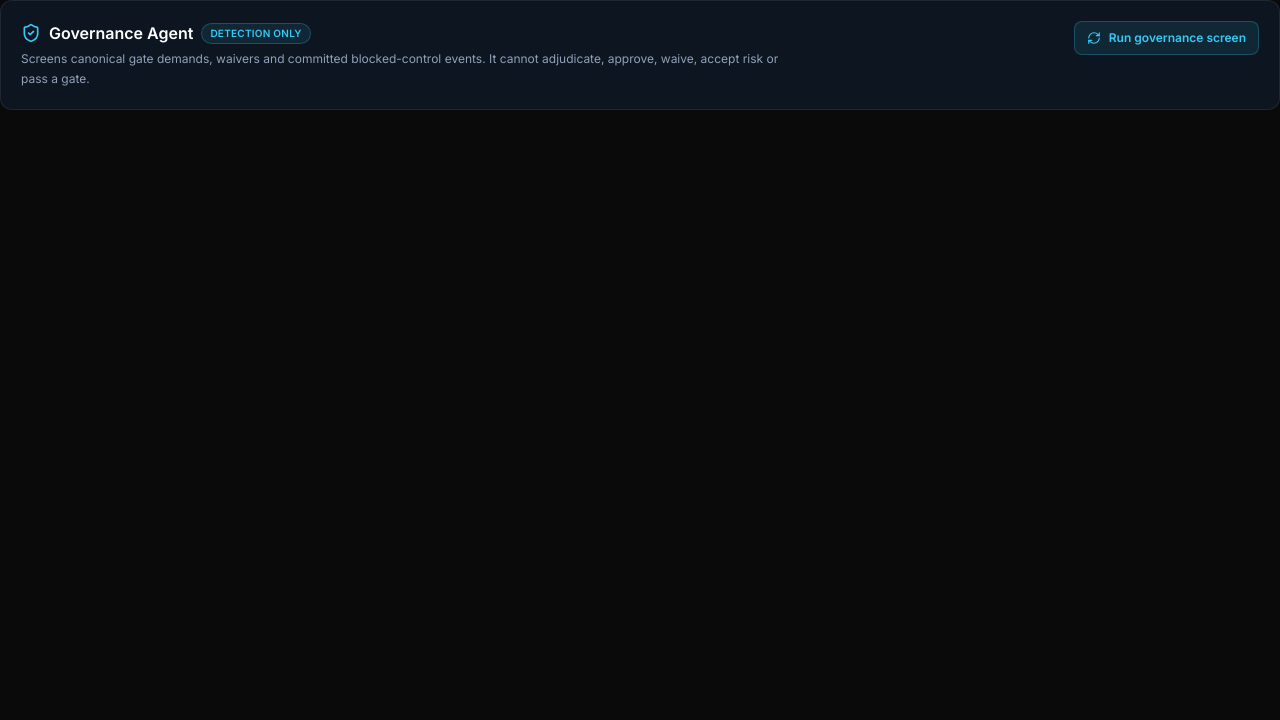
Test: GovernanceAgentPanel › runs the detection-only agent and exposes provenance plus human action
The width and height of the screenshot is (1280, 720).
Expected: the text "Detection only" is shown, top-left (201, 22), bottom-right (311, 44)
Click the button "Run governance screen". click: coordinates (1166, 38)
box: top-left (1074, 21), bottom-right (1259, 55)
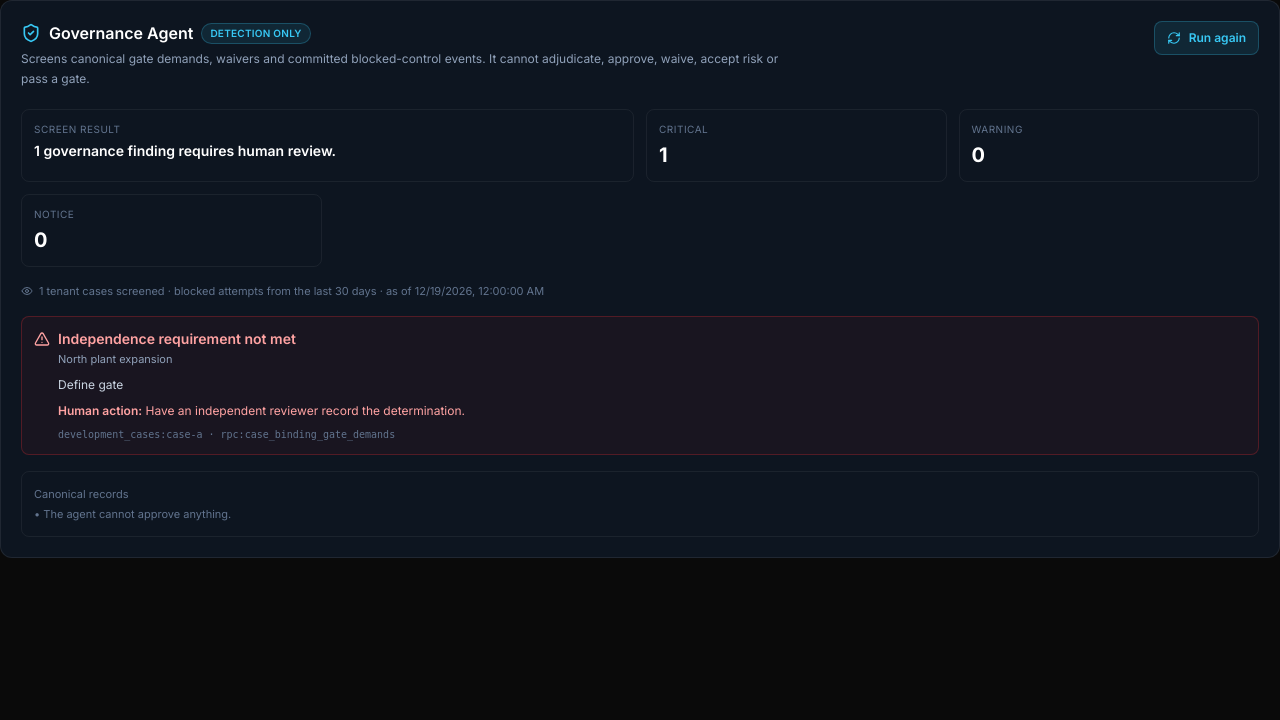
Now the heading "Independence requirement not met" is shown, box top-left (58, 330), bottom-right (296, 346)
Now the text "Have an independent reviewer" is shown, box top-left (146, 403), bottom-right (465, 418)
Now the text "development_cases:case-a · rpc:case_binding_gate_demands" is shown, box top-left (58, 429), bottom-right (395, 440)
